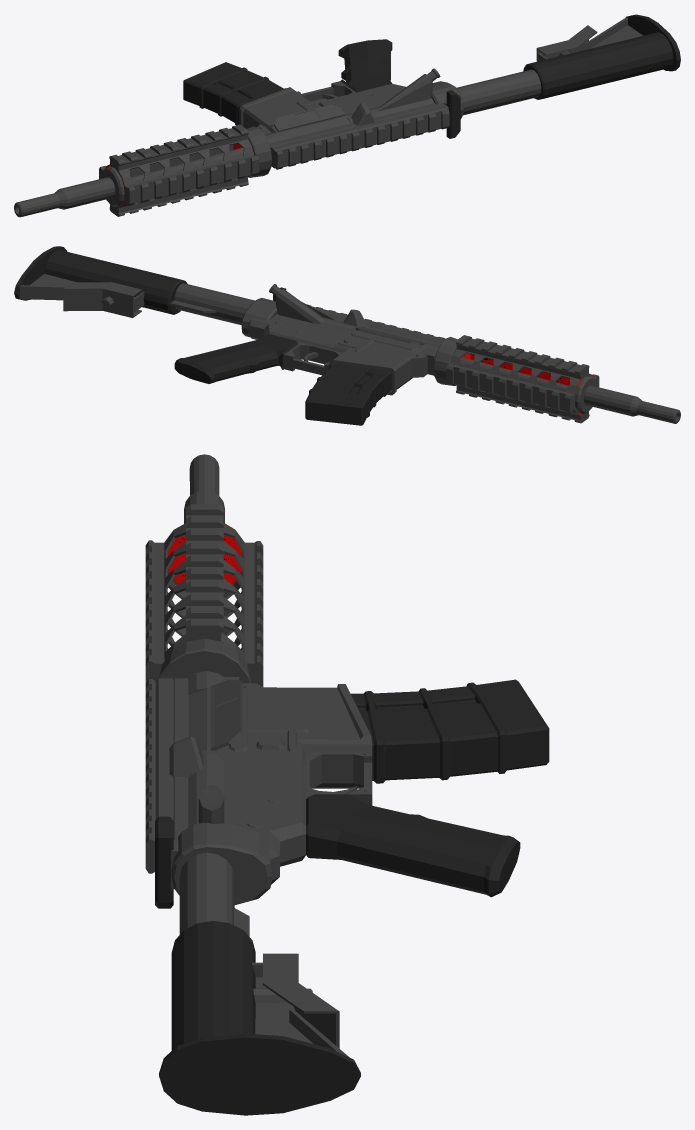
The model's file is AssaultRifle.glb.
3 renders of one model, top to bottom at view 1: azimuth 30°, elevation 25°; view 2: azimuth 150°, elevation 25°; view 3: azimuth 270°, elevation 25°, orthographic. The views are drawn at different scales.
Parts seen in each view (by area): view 1: AssaultRifle; view 2: AssaultRifle; view 3: AssaultRifle.
Part boxes in pixels (x1,y1,x2,y2): AssaultRifle: (14,14,680,217); AssaultRifle: (14,246,680,425); AssaultRifle: (145,454,549,1115).
Size of the model in its own units: 7.37 by 0.7086 by 2.06.
1 material, 1 textured.
